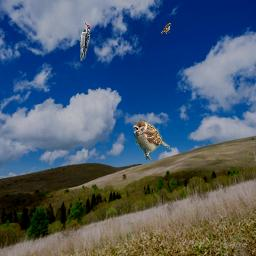Sparrow: (133, 120, 170, 160), (161, 23, 171, 34)
Woodpecker: (80, 21, 90, 61)
